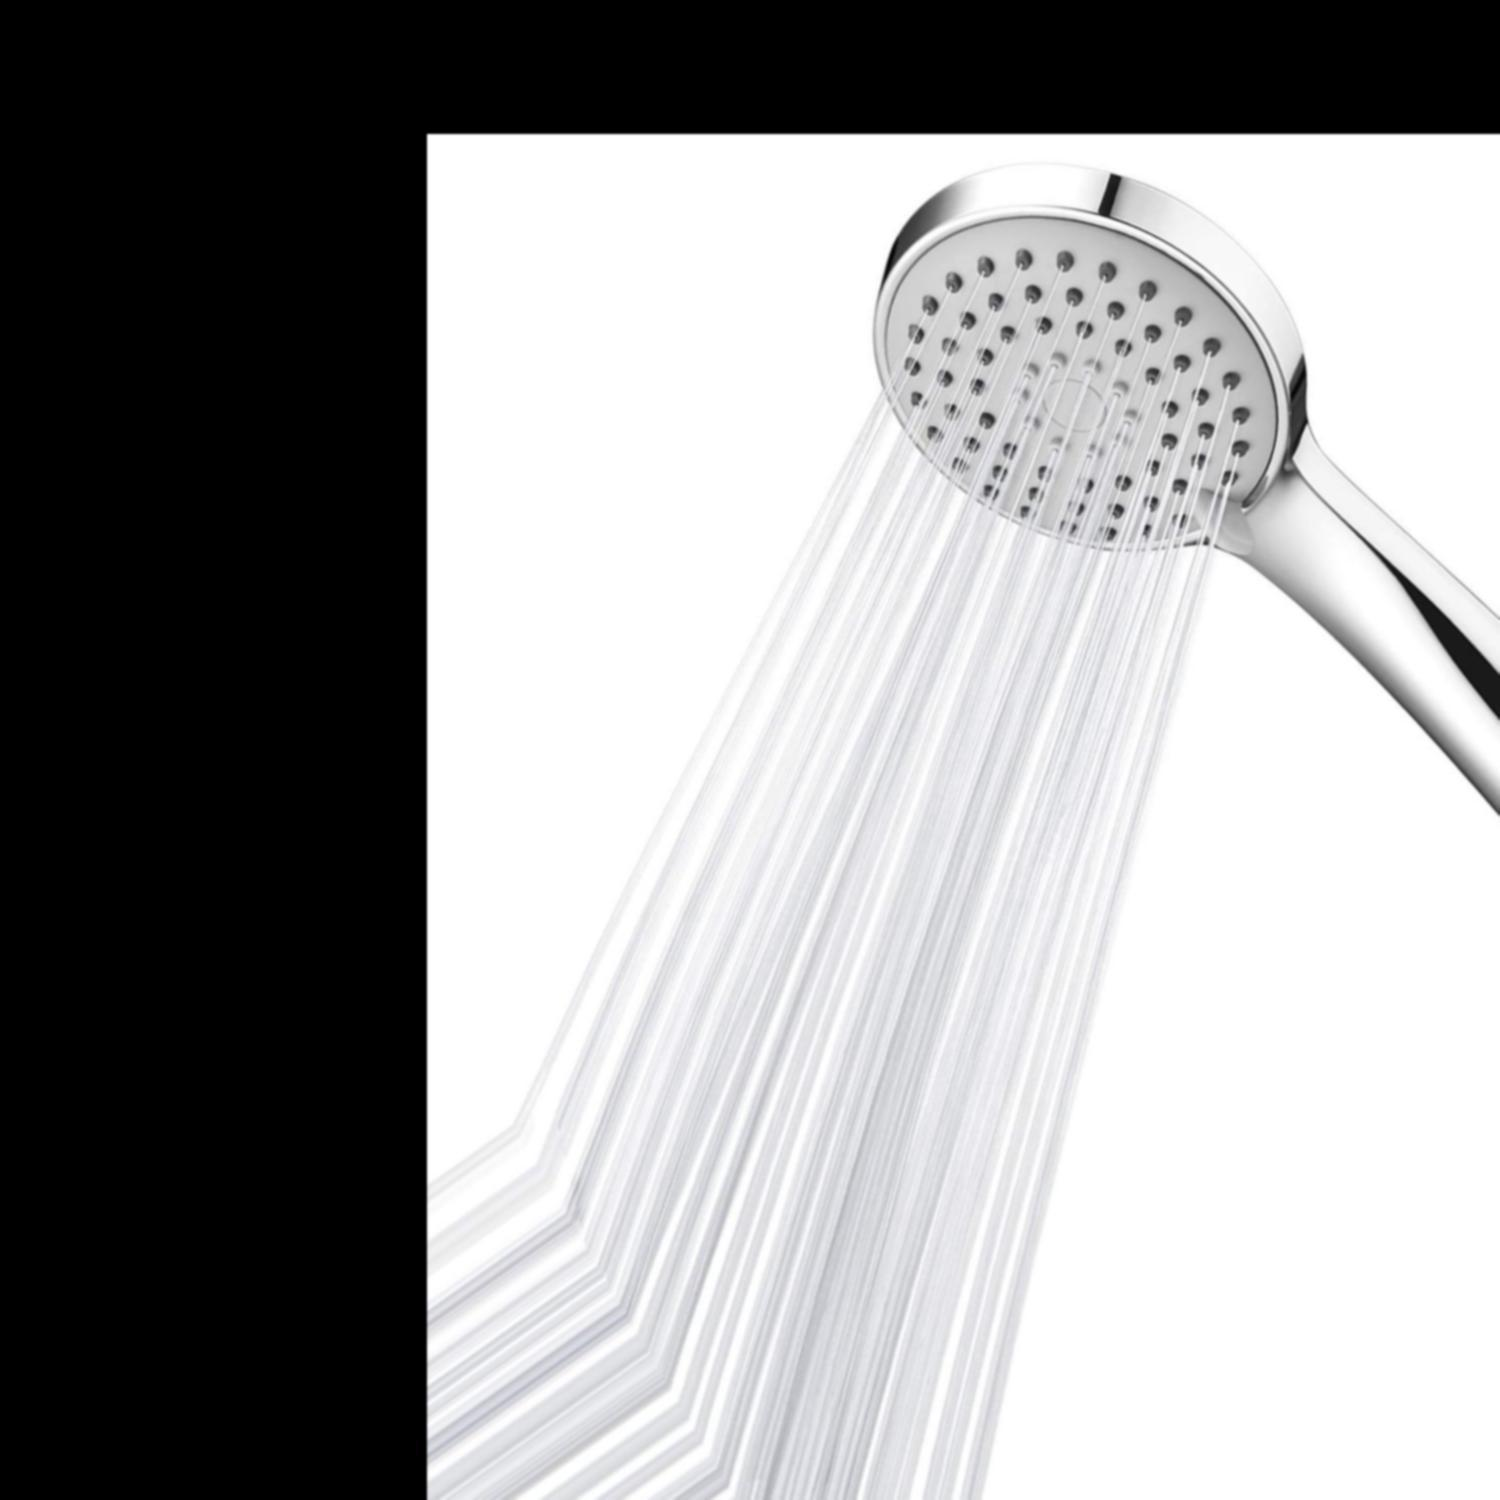Ducha: (548, 135, 1500, 1500)
